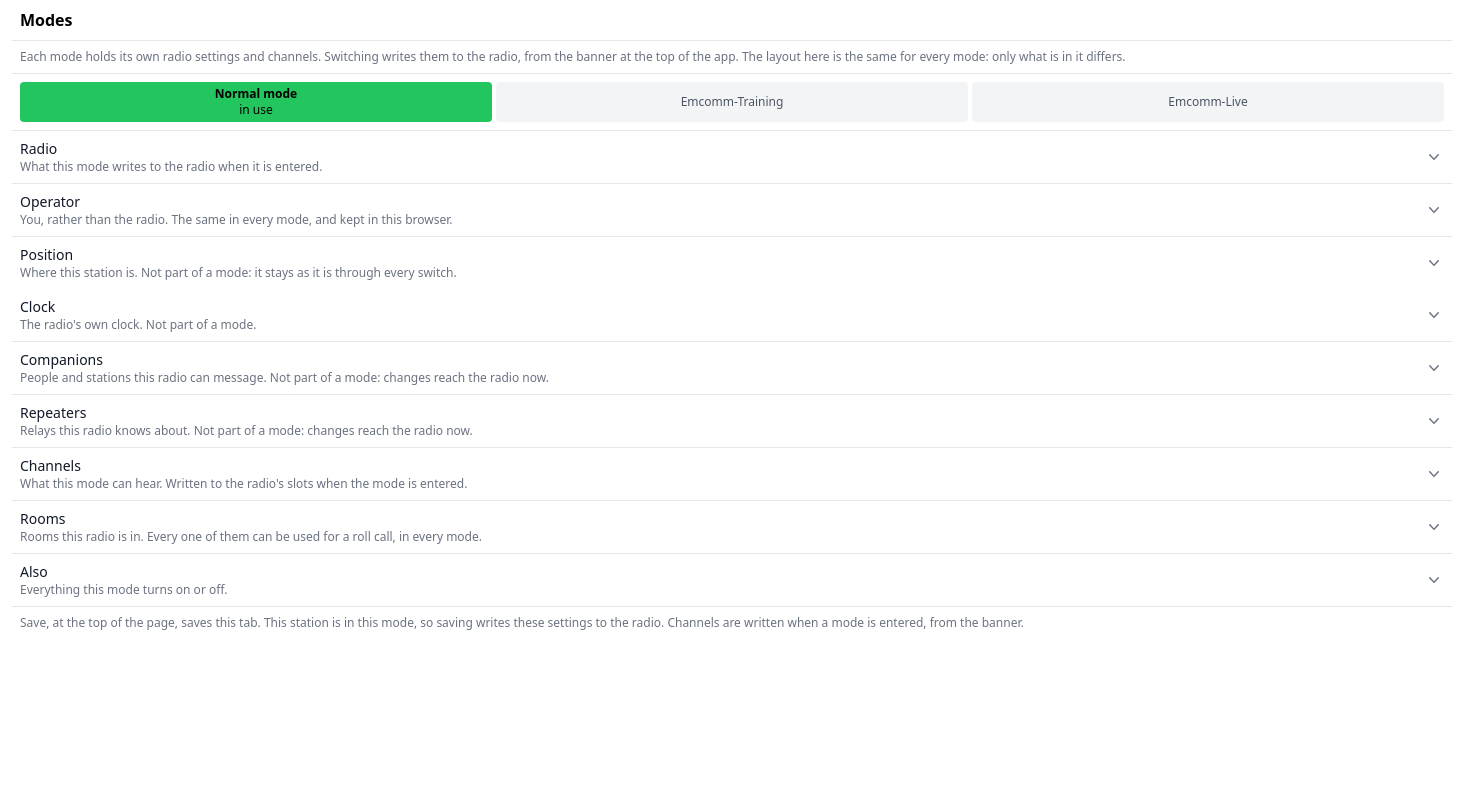
Test: the settings tabs › folds every heading, and opens none of them
This screenshot has width=1464, height=805.
Click the button "Emcomm-Live". click: coordinates (1208, 102)
box: x1=972 y1=82 x2=1444 y2=122
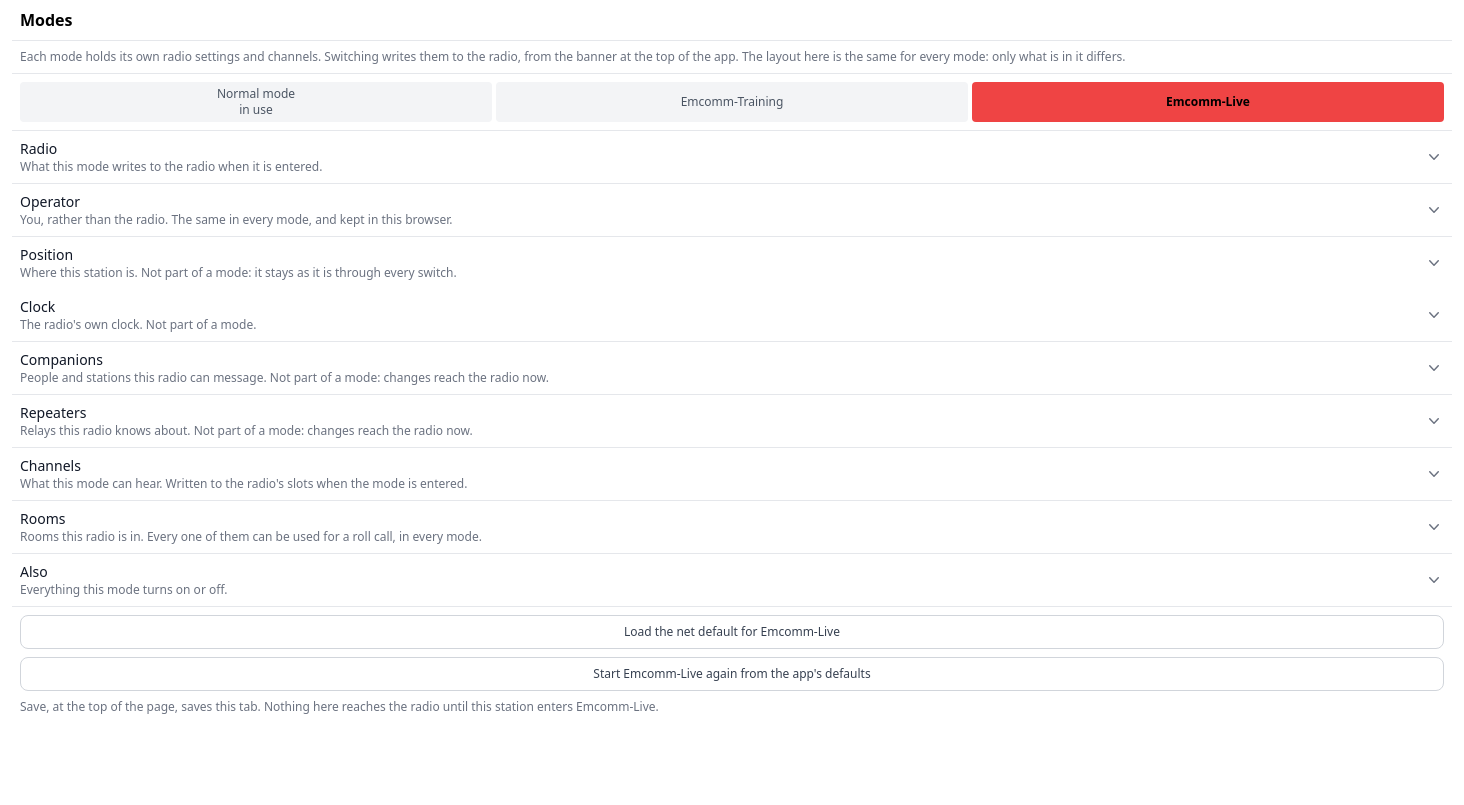
Click the button "Also Everything this mode turns on or off.". click: coordinates (124, 590)
box: x1=12 y1=554 x2=1452 y2=606
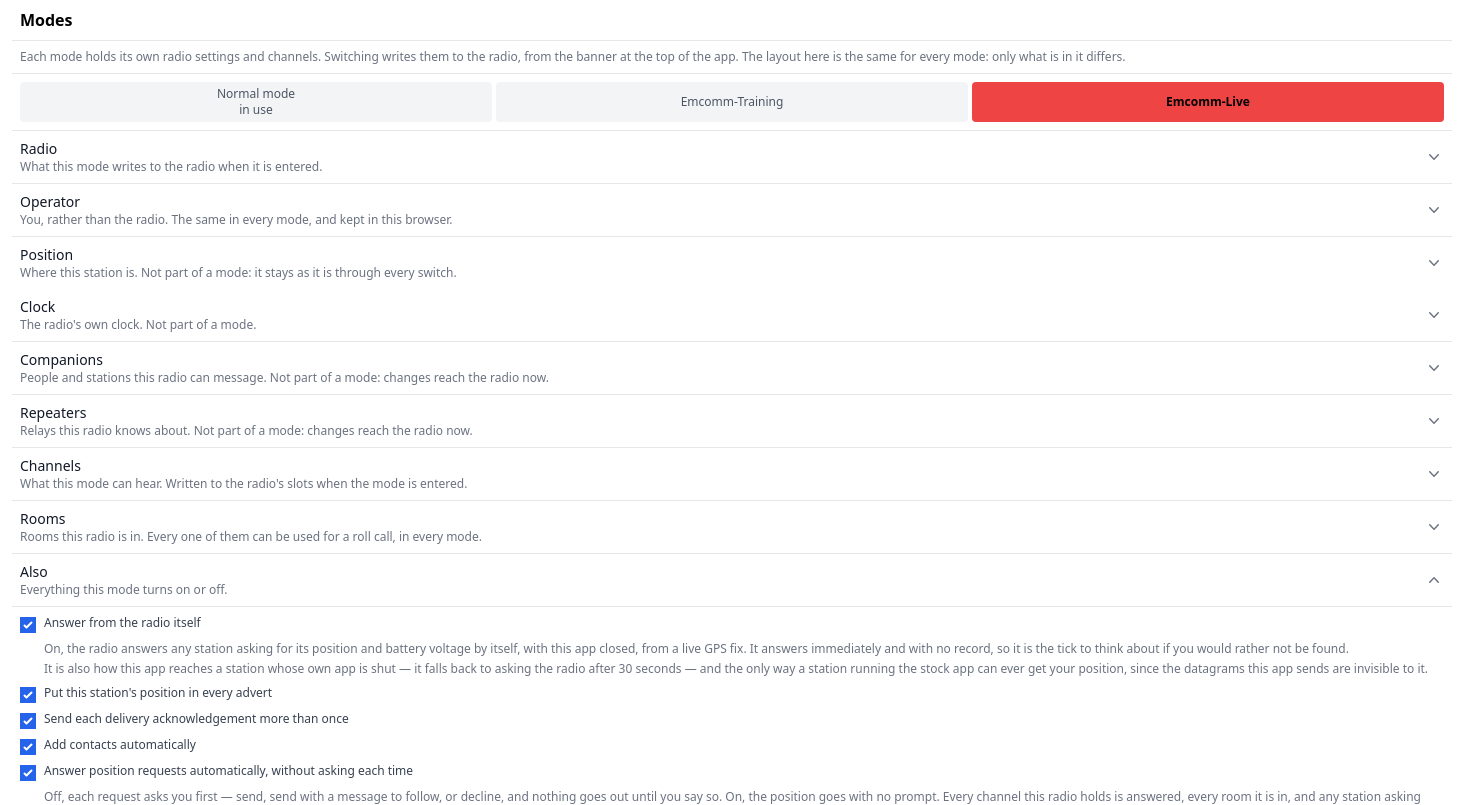
Check: the button "Also Everything this mode turns on or off." is expanded, box x1=12 y1=554 x2=1452 y2=606
